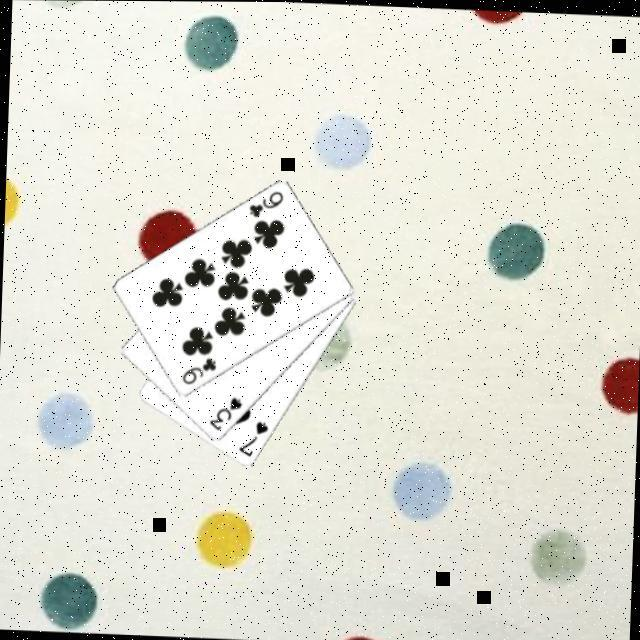3S: (204, 390, 244, 431)
7S: (234, 415, 269, 458)
9C: (177, 351, 218, 386), (243, 184, 284, 219)
